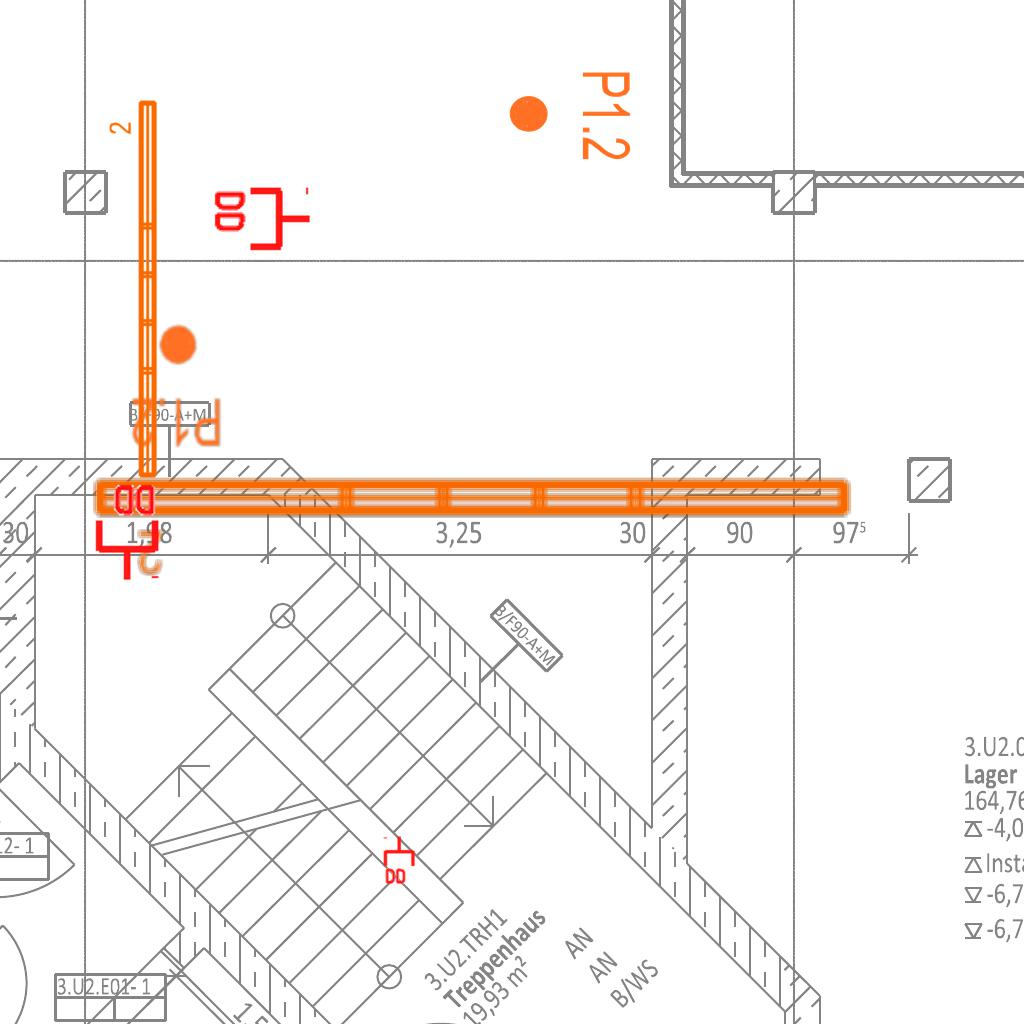Ambulanz_Pendelleuchte_LED: (86, 467, 860, 579), (107, 96, 163, 483)
Datenanschluss_zweifach: (210, 186, 313, 255), (91, 480, 160, 583), (383, 835, 417, 886)
Downlight_LED_Einbauleuchten_Flur: (130, 322, 223, 450), (506, 69, 634, 162)
